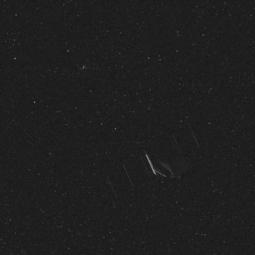soho: (104, 102, 221, 197)
